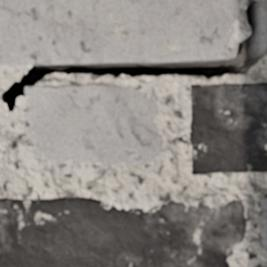brick: (0, 196, 244, 266), (0, 0, 239, 65), (25, 83, 161, 164), (188, 83, 266, 174), (257, 0, 266, 53), (257, 196, 266, 249)
crack: (1, 0, 265, 110)
